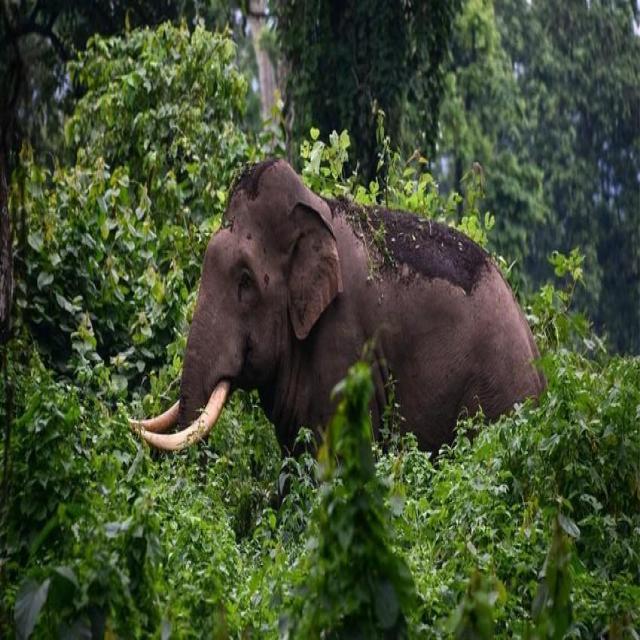Elephant: (123, 153, 559, 477)
